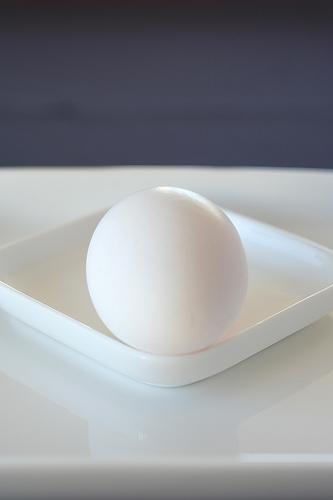egg: (85, 185, 247, 355)
